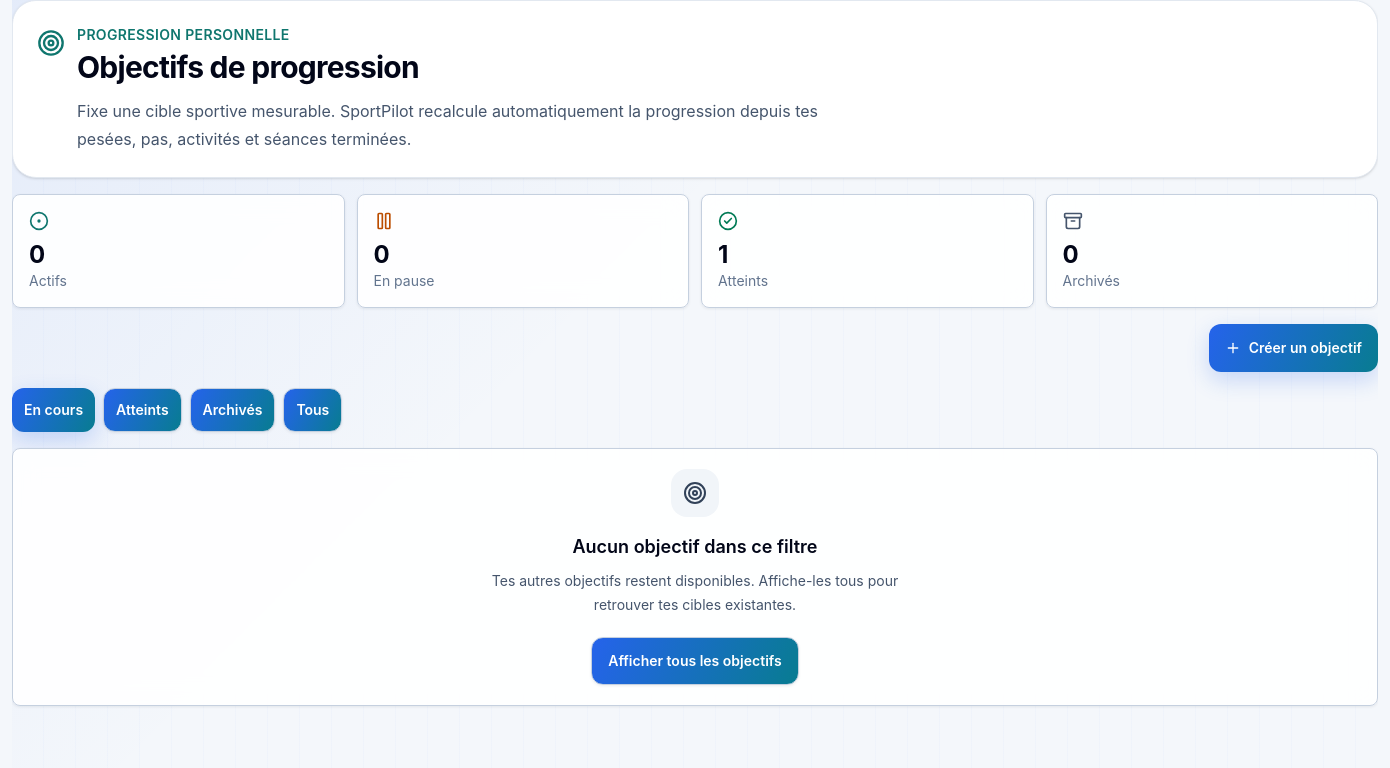
GoalsPage › distingue un filtre vide des objectifs existants et permet de tous les réafficher
Expected: the text "Objectif atteint" is not shown
Click the button "Afficher tous les objectifs".
click(695, 661)  # box [591,637,799,685]
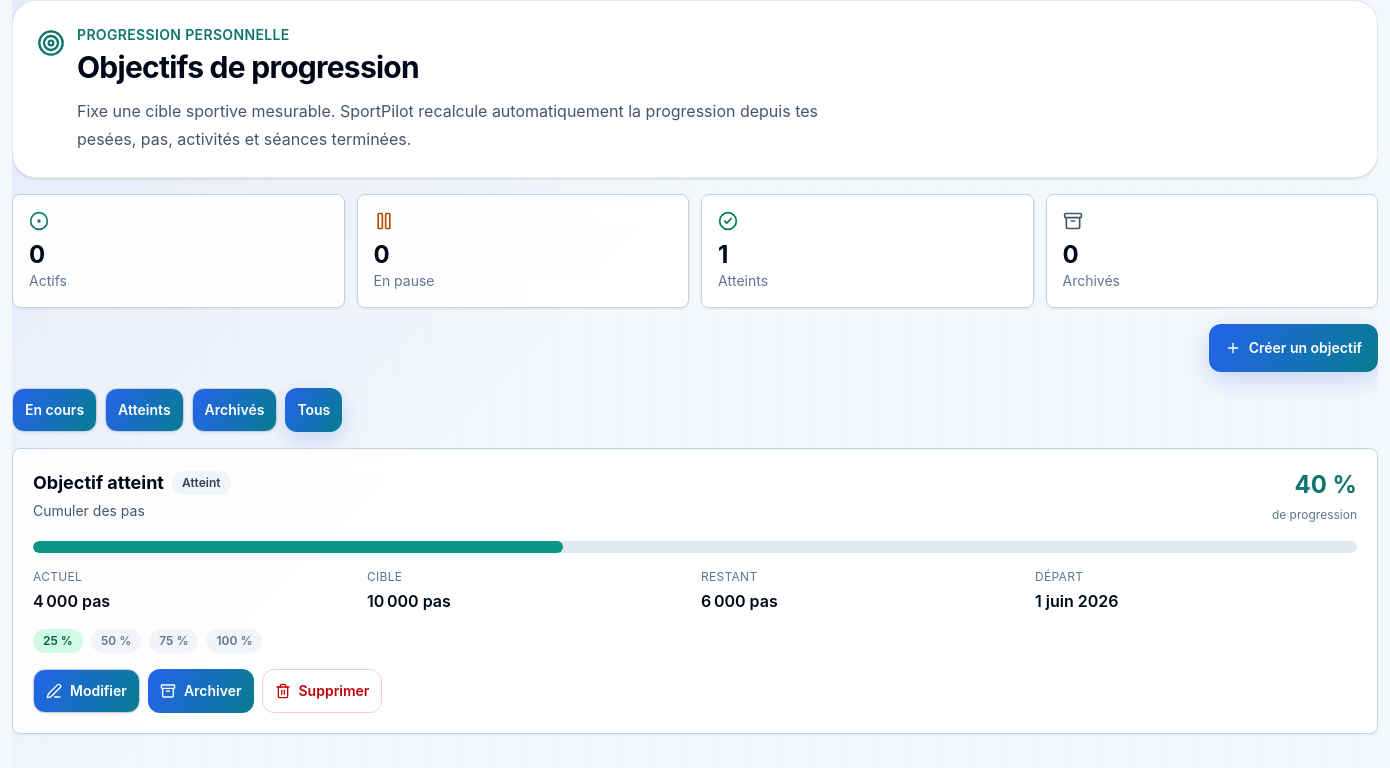
Expected: the heading "Objectif atteint" is shown, [33,469,164,497]
Expected: the heading "Aucun objectif dans ce filtre" is gone
